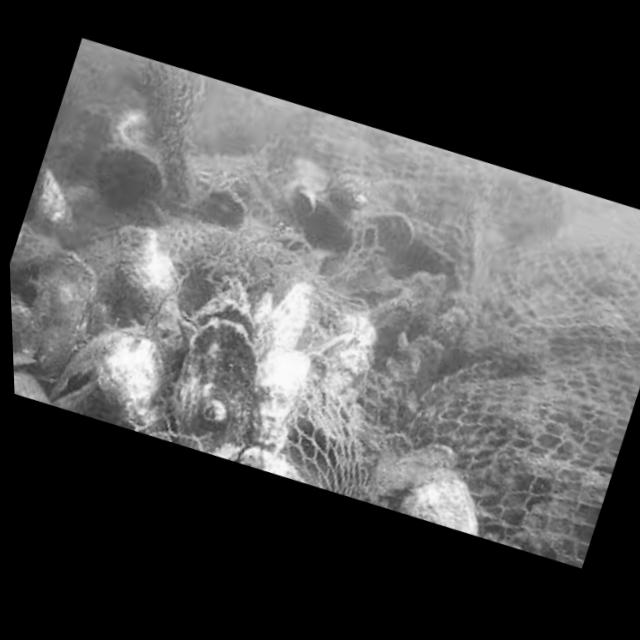Oyster-Indeterminate: (53, 327, 163, 426), (172, 317, 257, 445), (230, 331, 323, 431), (31, 252, 97, 376), (98, 226, 176, 325), (400, 469, 478, 535), (352, 286, 419, 361), (309, 317, 381, 385), (398, 324, 467, 392), (387, 260, 453, 326), (419, 291, 480, 360), (97, 148, 162, 209), (191, 281, 256, 341), (376, 339, 438, 400), (261, 282, 313, 354), (324, 161, 379, 223), (237, 399, 295, 457), (283, 158, 329, 224), (24, 168, 72, 228), (304, 201, 352, 253), (10, 223, 52, 279), (203, 188, 247, 228)
Oyster-Open: (359, 200, 429, 268)
